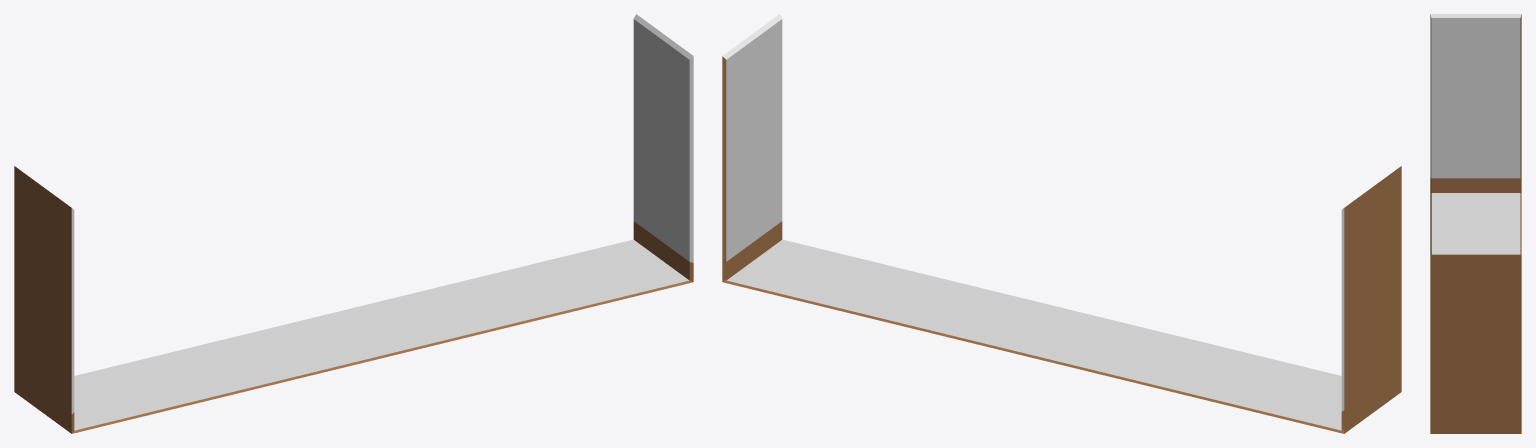
The model's file is Class.fbx.
3 views of the same model, side by side, from view 1: azimuth 30°, elevation 25°; view 2: azimuth 150°, elevation 25°; view 3: azimuth 270°, elevation 25° (orthographic). The views are drawn at different scales.
Parts seen in each view (by area): view 1: 평면; view 2: 평면; view 3: 평면.
Part boxes in pixels (<box>): 평면: <box>14,14,693,433</box>; 평면: <box>722,14,1401,433</box>; 평면: <box>1430,14,1521,433</box>.
Size of the model in its own units: 6476 by 2250 by 1036.
